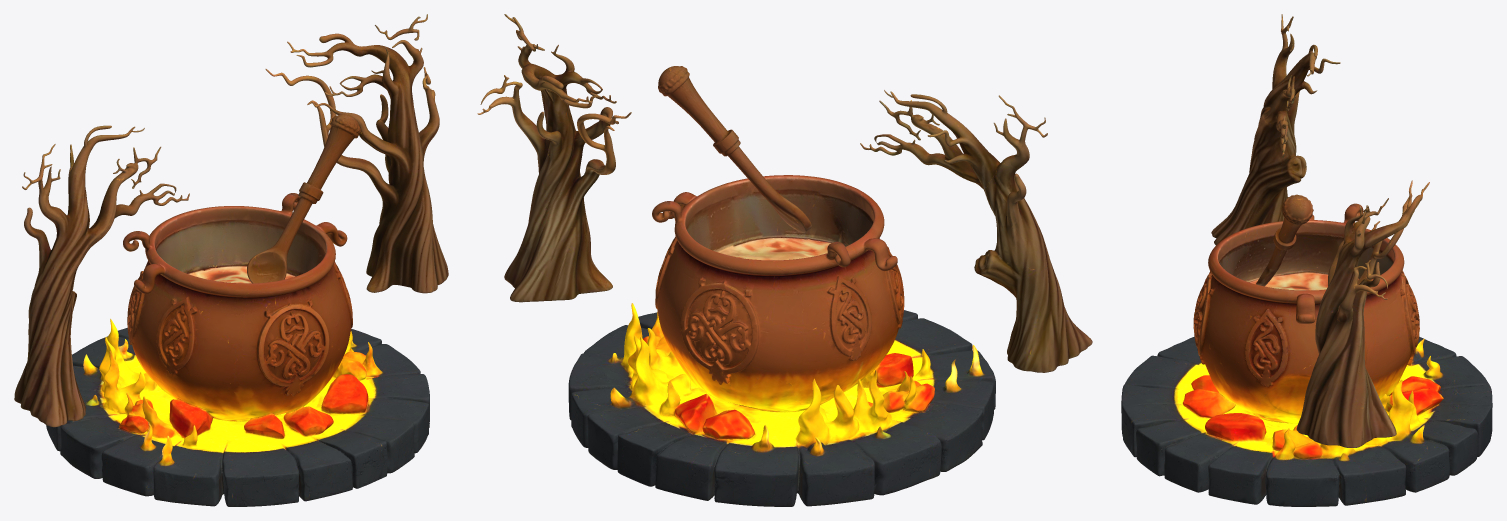
Rendered from cooking_station_draco.glb.
3 renders of one model, left to right at view 1: azimuth 30°, elevation 25°; view 2: azimuth 150°, elevation 25°; view 3: azimuth 270°, elevation 25°, orthographic. The views are drawn at different scales.
Size of the model in its own units: 1.9 by 1.29 by 1.33.
Materials: 1 (1 with a texture image).
